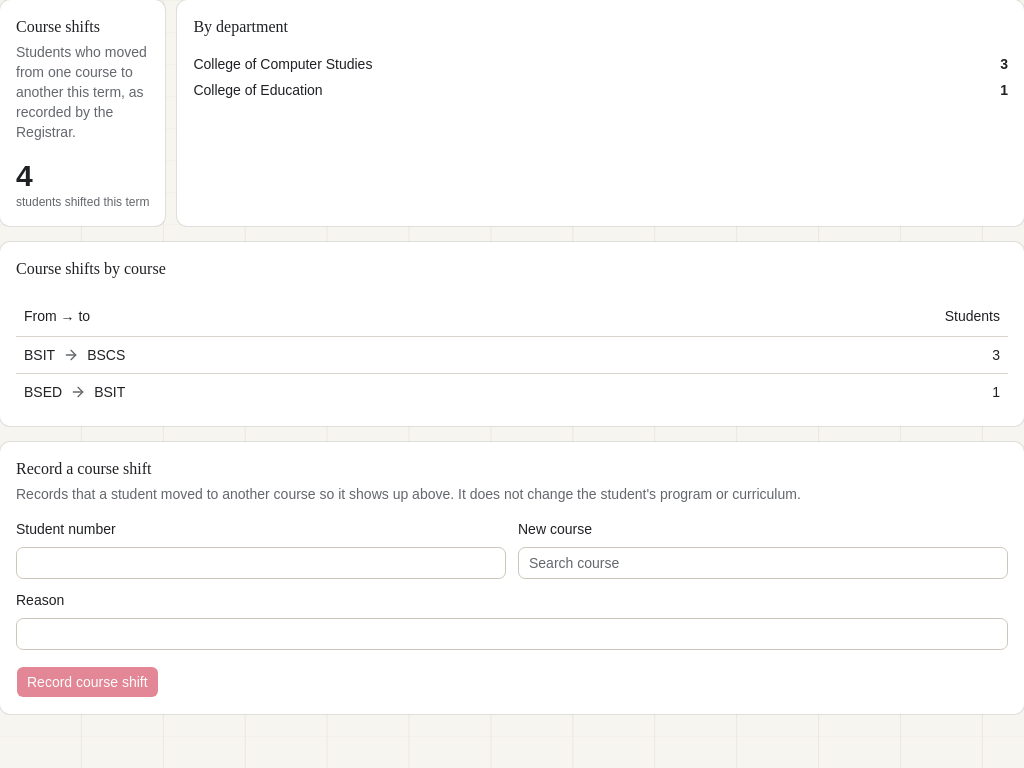
Test: EnrollmentMovementsPanel › shows the server's reason when a shift is refused
Expected: the heading "Record a course shift" is shown, [16,460,152,476]
Type "NOPE" into the field labelled "Student number".
click(261, 563); type("NOPE")  # box [16,547,506,579]
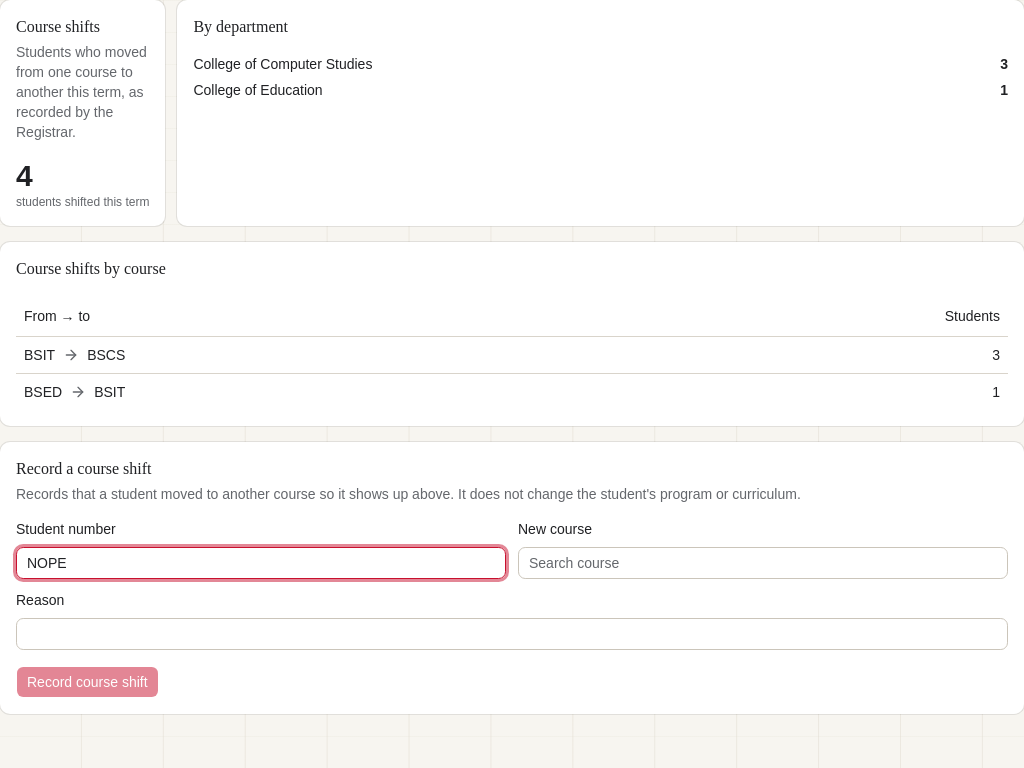
Click the dropdown labelled "New course".
click(763, 563)  # box [518,547,1008,579]
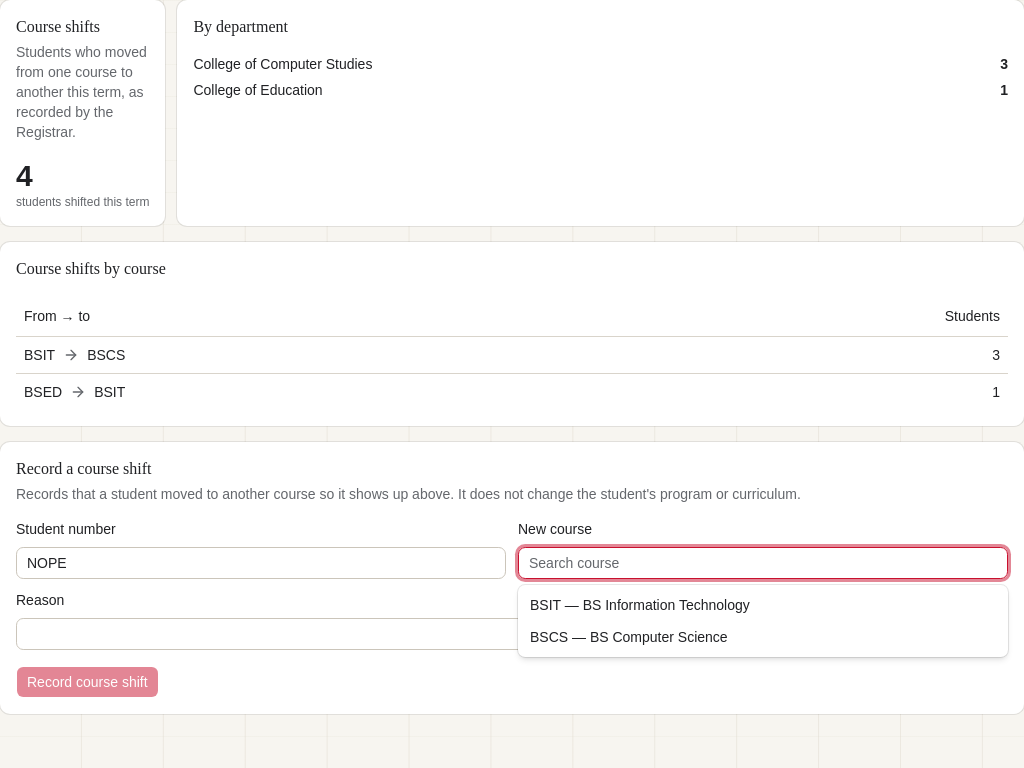
Click the option "BSCS — BS Computer Science".
click(629, 637)  # box [530,629,728,645]
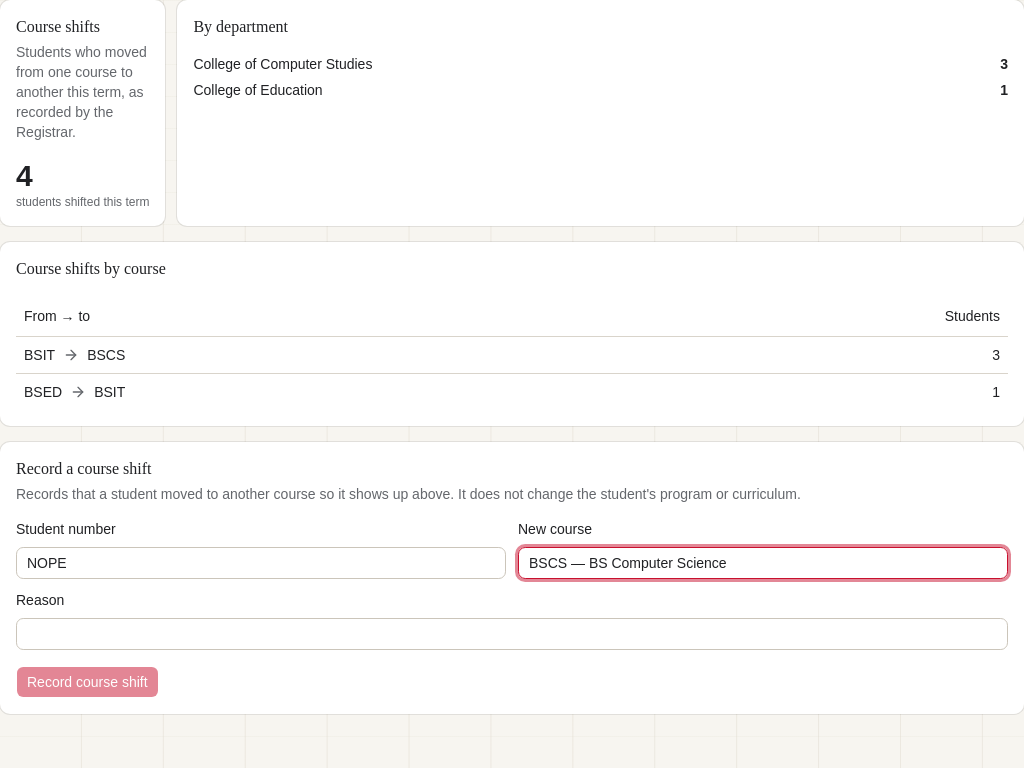
Type "Changed course" into the field labelled "Reason".
click(512, 634); type("Changed course")  # box [16,618,1008,650]
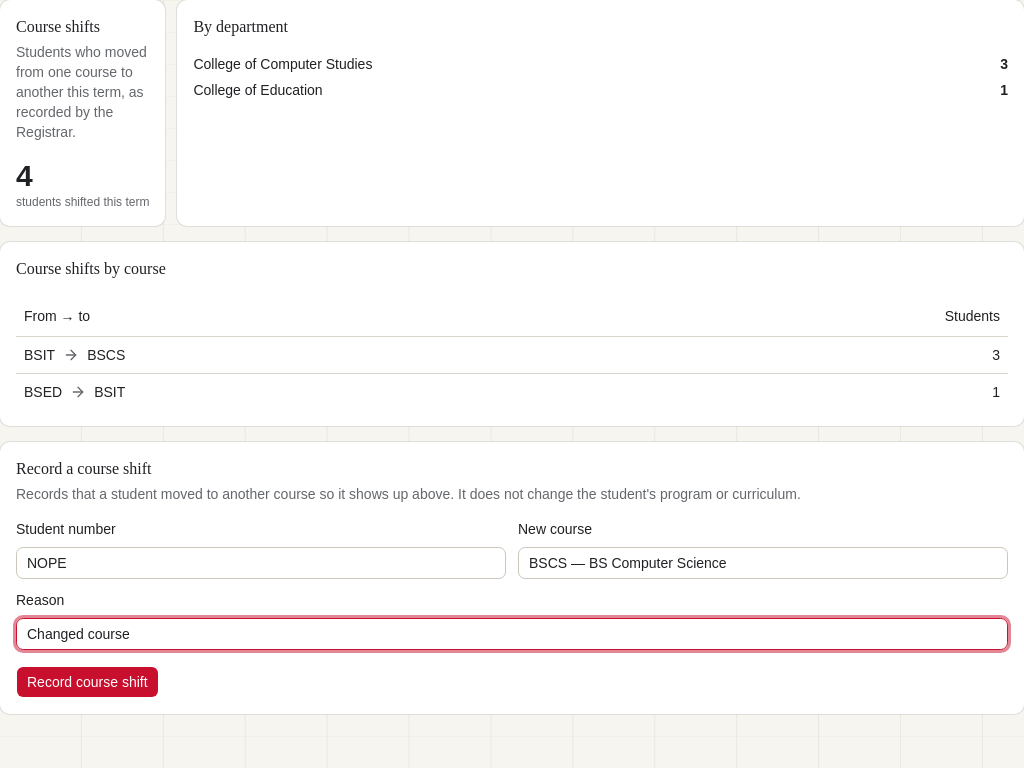
Click the button "Record course shift".
click(87, 682)  # box [16,666,159,698]
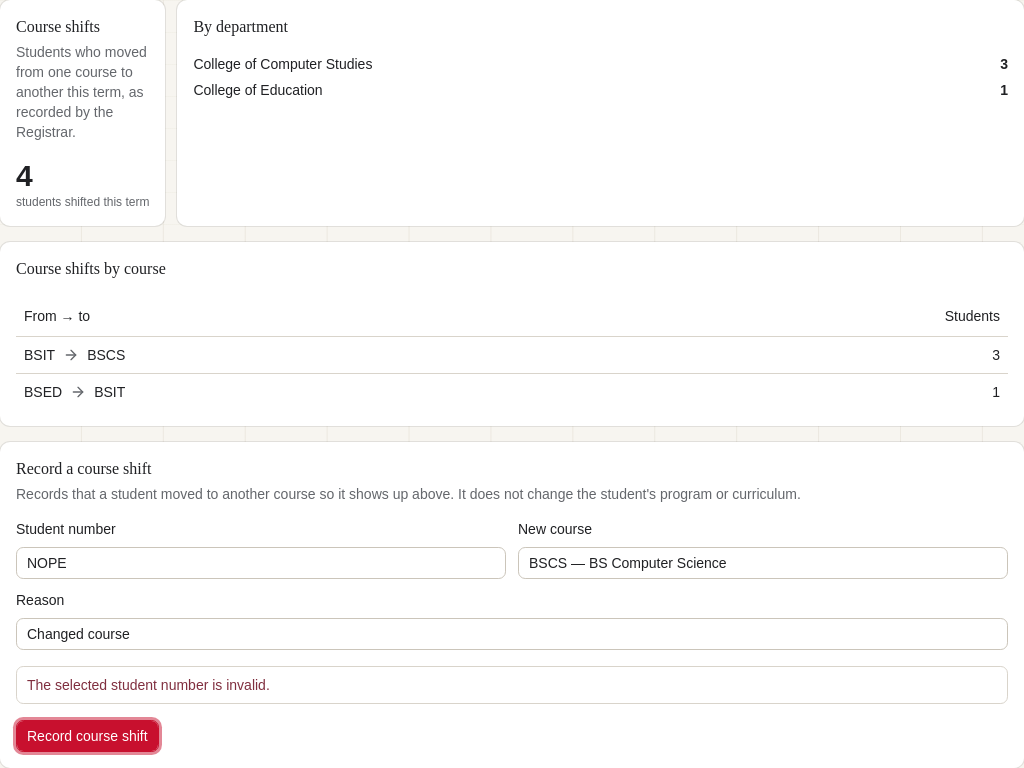
Expected: the text "The selected student number is invalid." is shown, [27,677,270,693]
